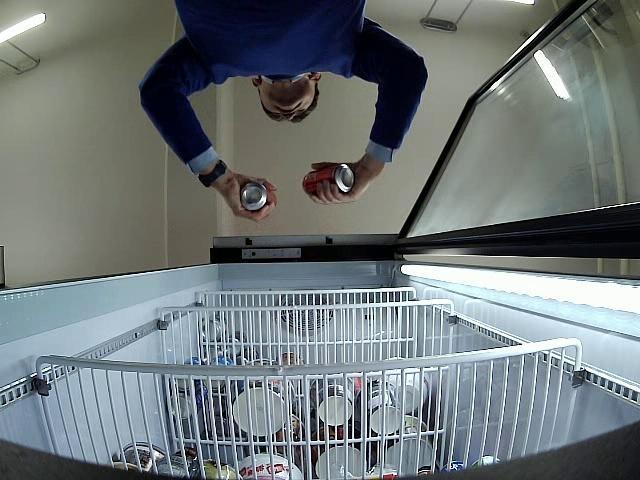11_cocaColaZero: (302, 164, 354, 196), (240, 182, 276, 212)
